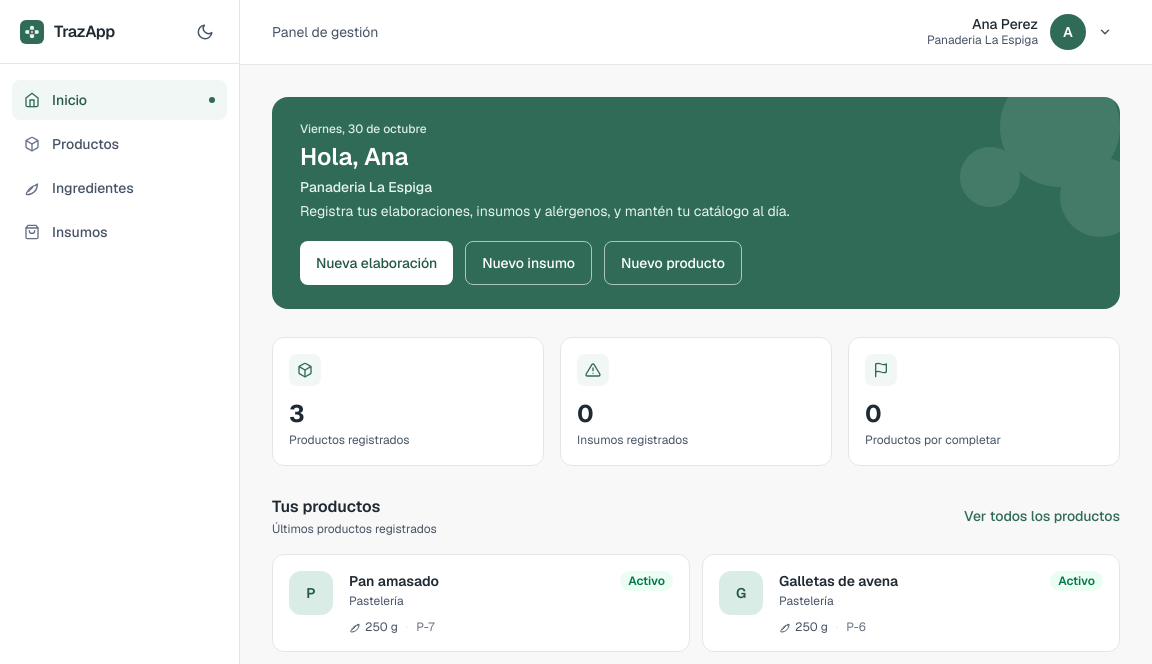
Test: Dashboard: acción «Nueva elaboración» (HT06-07) › crear el borrador navega al registro de la elaboración, igual que desde el producto
Click the button "Nueva elaboración" at (377, 263), box [300, 241, 453, 285]
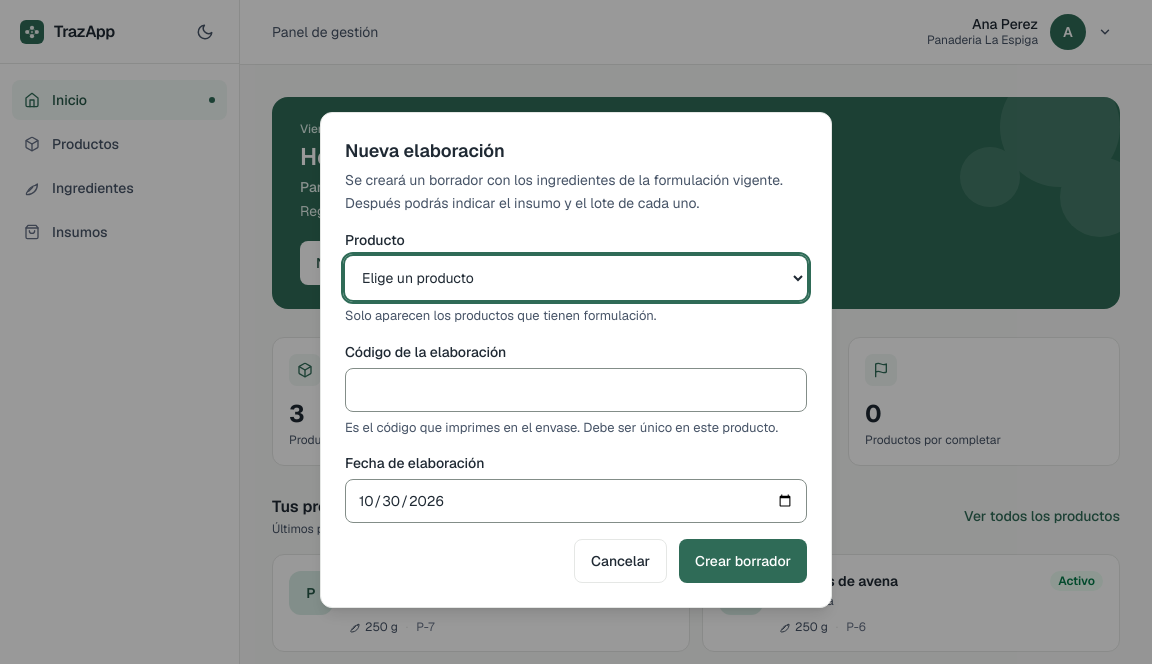
Select "Pan amasado" in the dropdown labelled "Producto" at (576, 278), box [345, 256, 807, 300]
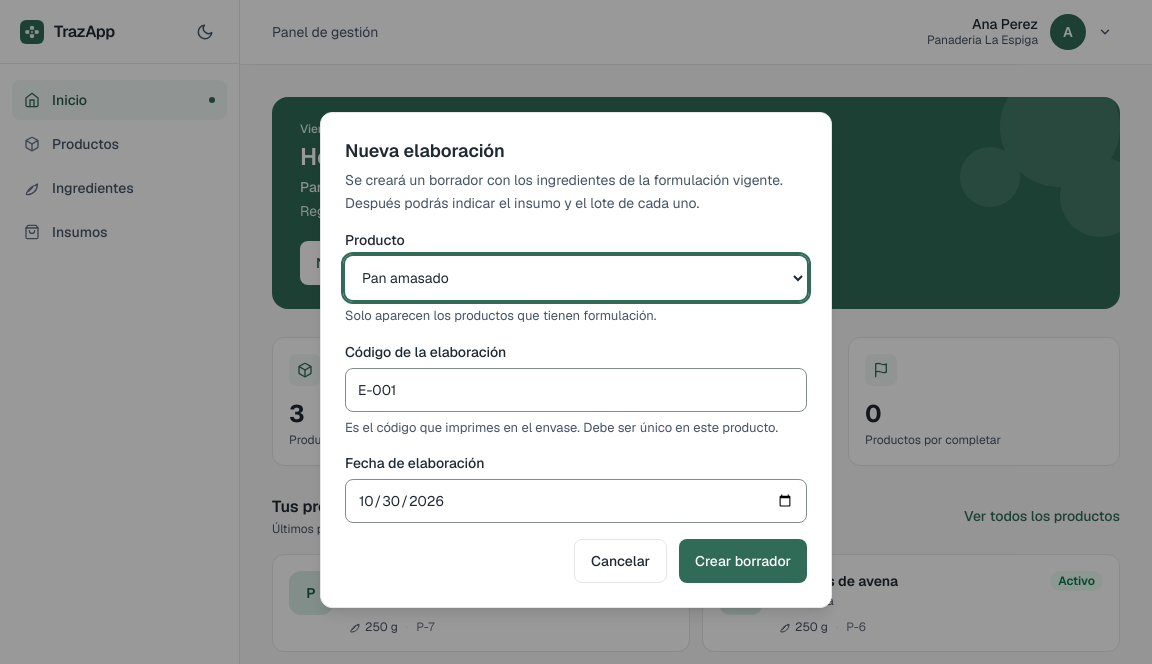
Expected: the field labelled "Código de la elaboración" holds "E-001", [345, 368, 807, 412]
Click the button "Crear borrador" at (743, 561), box [679, 539, 807, 583]
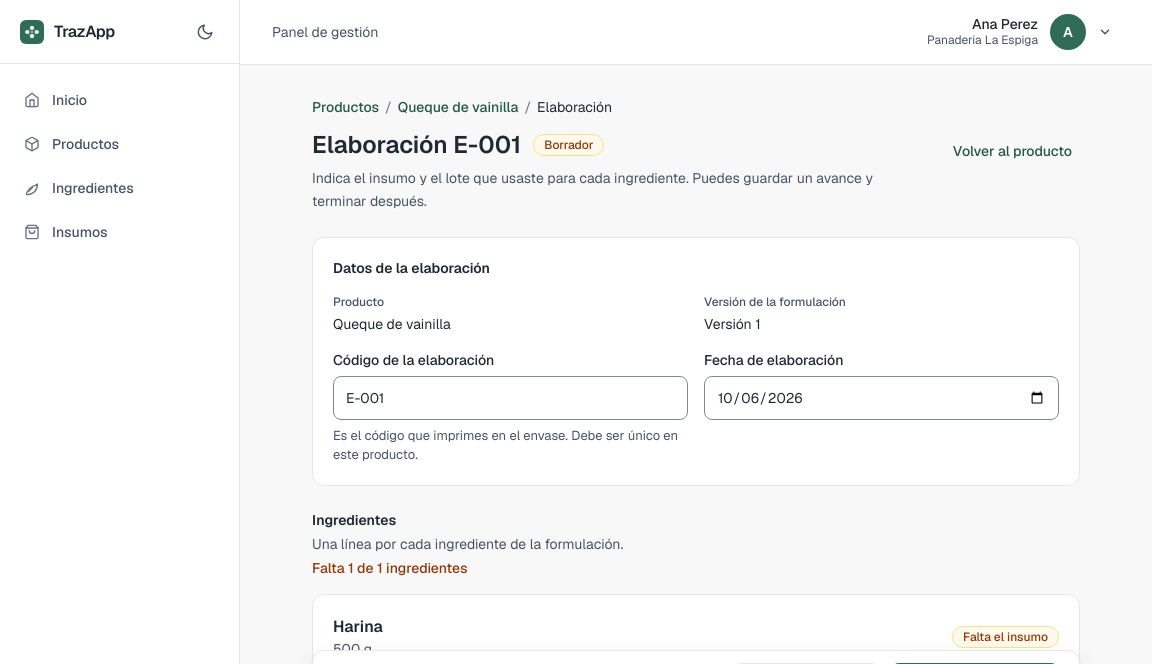
Expected: the heading "Elaboración E-001" is shown, [312, 129, 521, 161]
